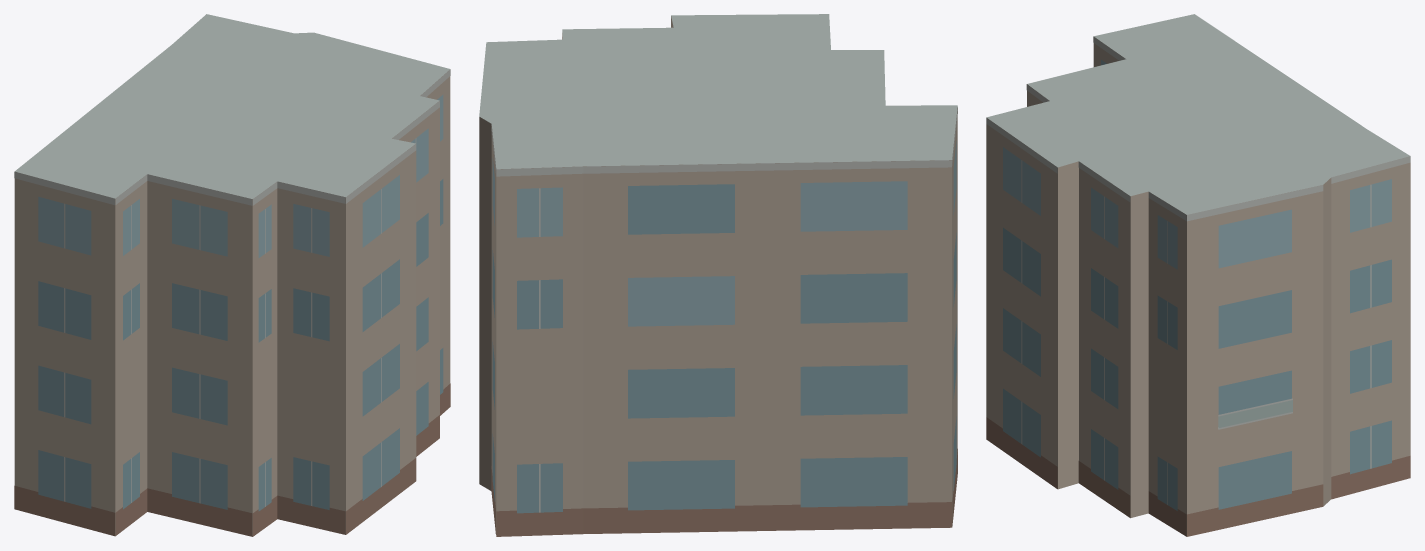
File: survey-upis-32489759.glb
3 views of the same model, side by side, from view 1: azimuth 30°, elevation 25°; view 2: azimuth 150°, elevation 25°; view 3: azimuth 270°, elevation 25° (orthographic). The views are drawn at different scales.
Parts seen in each view (by area): view 1: survey-upis-32489759.tmp; view 2: survey-upis-32489759.tmp; view 3: survey-upis-32489759.tmp.
Boxes of the visible parts, x1,y1,x2,y2 form: survey-upis-32489759.tmp: [14, 14, 450, 536]; survey-upis-32489759.tmp: [479, 14, 957, 536]; survey-upis-32489759.tmp: [986, 14, 1410, 536].
Size of the model in its own units: 16.34 by 12.2 by 14.58.
